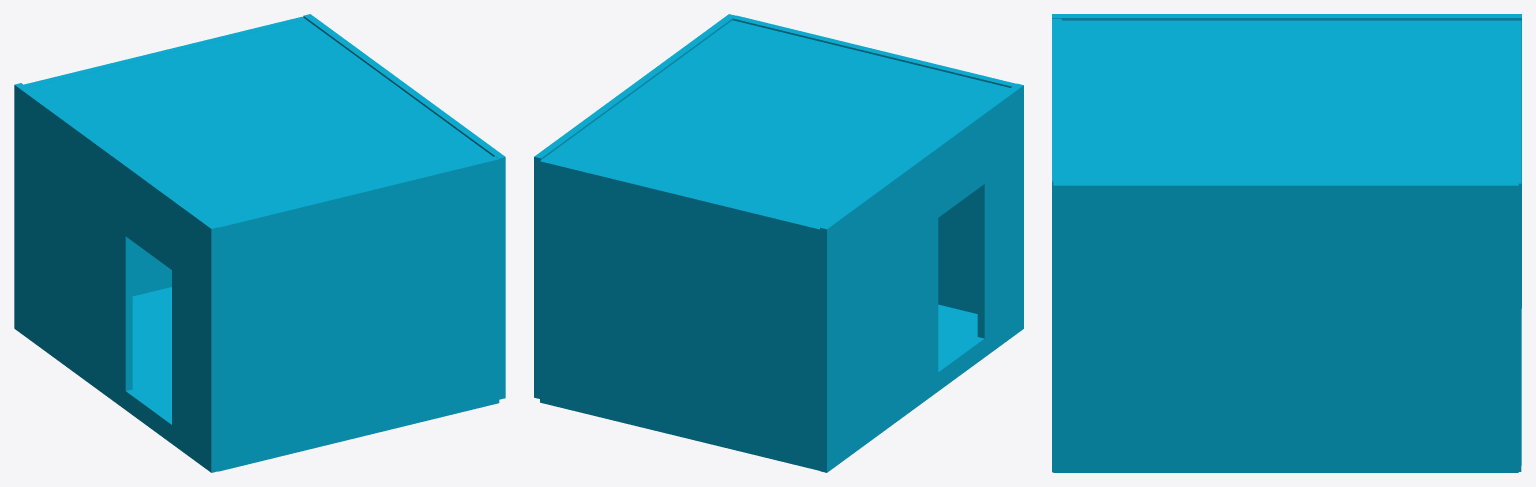
The model's file is toilet.fbx.
The picture shows the model from 3 angles, left to right: view 1: azimuth 30°, elevation 25°; view 2: azimuth 150°, elevation 25°; view 3: azimuth 270°, elevation 25°; orthographic projection. The views are drawn at different scales.
Parts seen in each view (by area): view 1: Cube.019, Cube.021, Cube.017, Cube, Cube.016, Cube.020; view 2: Cube.020, Cube.021, Cube.017, Cube.019, Cube, Cube.016; view 3: Cube.016, Cube.021, Cube.017, Cube.020, Cube.019.
Part boxes in pixels (bbox=[...]): Cube.019: bbox=[215, 156, 499, 471]; Cube.021: bbox=[28, 20, 492, 224]; Cube.017: bbox=[14, 83, 218, 472]; Cube: bbox=[132, 287, 171, 417]; Cube.016: bbox=[303, 14, 505, 399]; Cube.020: bbox=[24, 16, 305, 296]; Cube.020: bbox=[539, 158, 821, 465]; Cube.021: bbox=[544, 20, 1010, 225]; Cube.017: bbox=[820, 83, 1023, 472]; Cube.019: bbox=[732, 15, 1015, 313]; Cube: bbox=[540, 304, 977, 470]; Cube.016: bbox=[534, 14, 735, 398]; Cube.016: bbox=[1053, 181, 1518, 472]; Cube.021: bbox=[1061, 20, 1519, 190]; Cube.017: bbox=[1052, 14, 1521, 308]; Cube.020: bbox=[1512, 20, 1521, 465]; Cube.019: bbox=[1052, 18, 1061, 472].
Size of the model in its own units: 2100 by 1664 by 2434.
